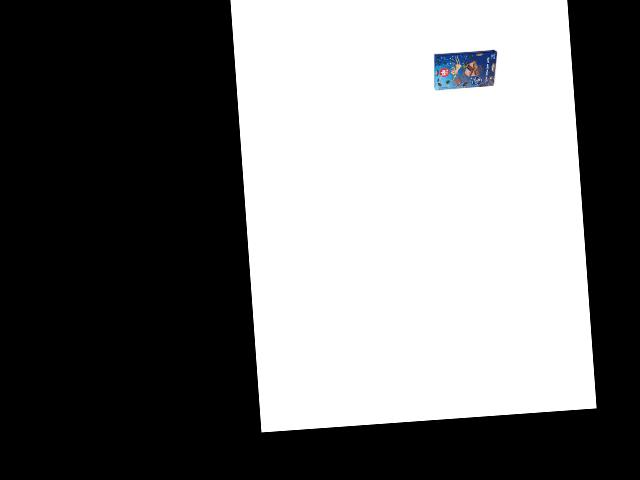chocolate: (430, 45, 499, 95)
